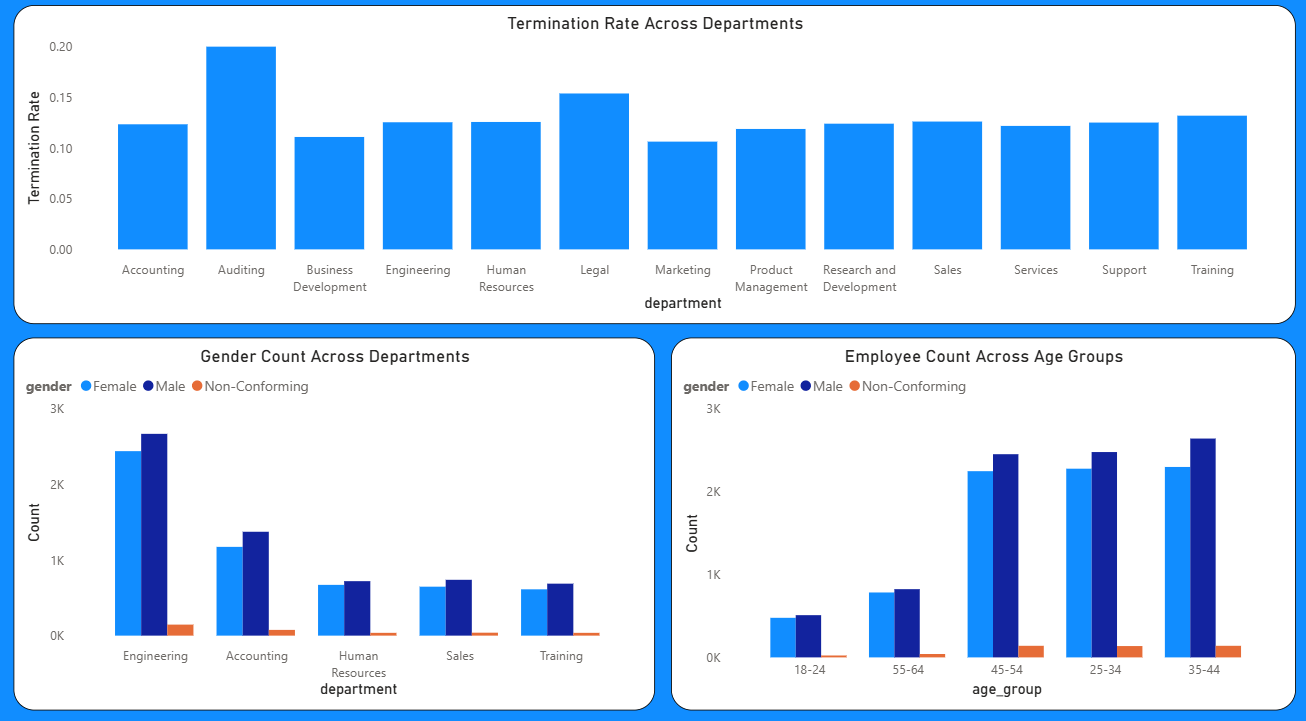

What the dashboard file says about the page in this screenshot:
{"tool":"powerbi","page":{"name":"Page 2","canvas":[1280,720],"ordinal":1},"visuals":[{"type":"columnChart","title":"Termination Rate Across Departments","fields":{"Category":["turnover_rates_by_department.department"],"Y":["Sum(turnover_rates_by_department.termination_rate)"]},"box":[22.1,19.3,1237.5,307.7],"z":0},{"type":"clusteredColumnChart","title":"Employee Count Across Age Groups","fields":{"Series":["age_group_by_gender.gender"],"Category":["age_group_by_gender.age_group"],"Y":["Sum(age_group_by_gender.count)"]},"box":[656.7,340.8,602.9,360.1],"z":1000},{"type":"clusteredColumnChart","title":"Gender Count Across Departments","fields":{"Category":["distribution_of_gender_across_departments.department"],"Series":["distribution_of_gender_across_departments.gender"],"Y":["Sum(distribution_of_gender_across_departments.count)"]},"box":[22.1,340.8,619.4,360.1],"z":2000}]}

Visuals, with their boxes in screenshot pixels (x1, y1, x2, y2), scaled from the page's 1280x720 canvas onto the 1306x721 screenshot:
"Termination Rate Across Departments" columnChart: x1=23 y1=19 x2=1285 y2=327
"Employee Count Across Age Groups" clusteredColumnChart: x1=670 y1=341 x2=1285 y2=702
"Gender Count Across Departments" clusteredColumnChart: x1=23 y1=341 x2=655 y2=702
